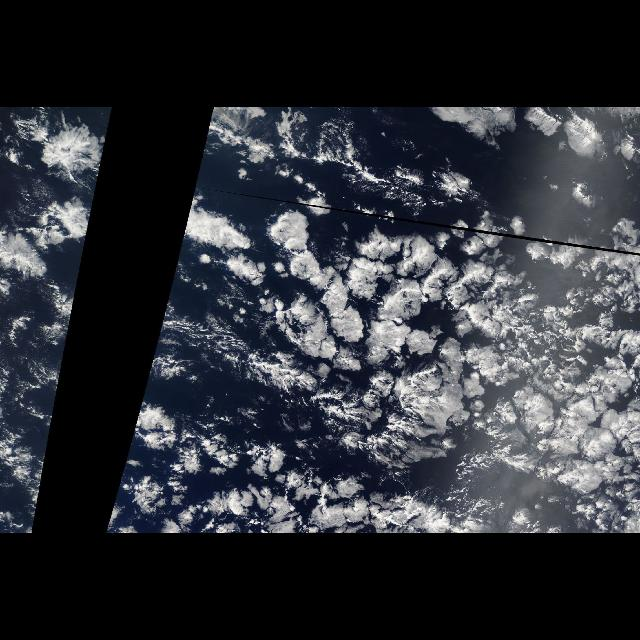Flower: (103, 185, 639, 532), (0, 107, 112, 287), (416, 107, 638, 173), (32, 397, 56, 531)
Gravel: (270, 113, 432, 219), (160, 299, 302, 395)
